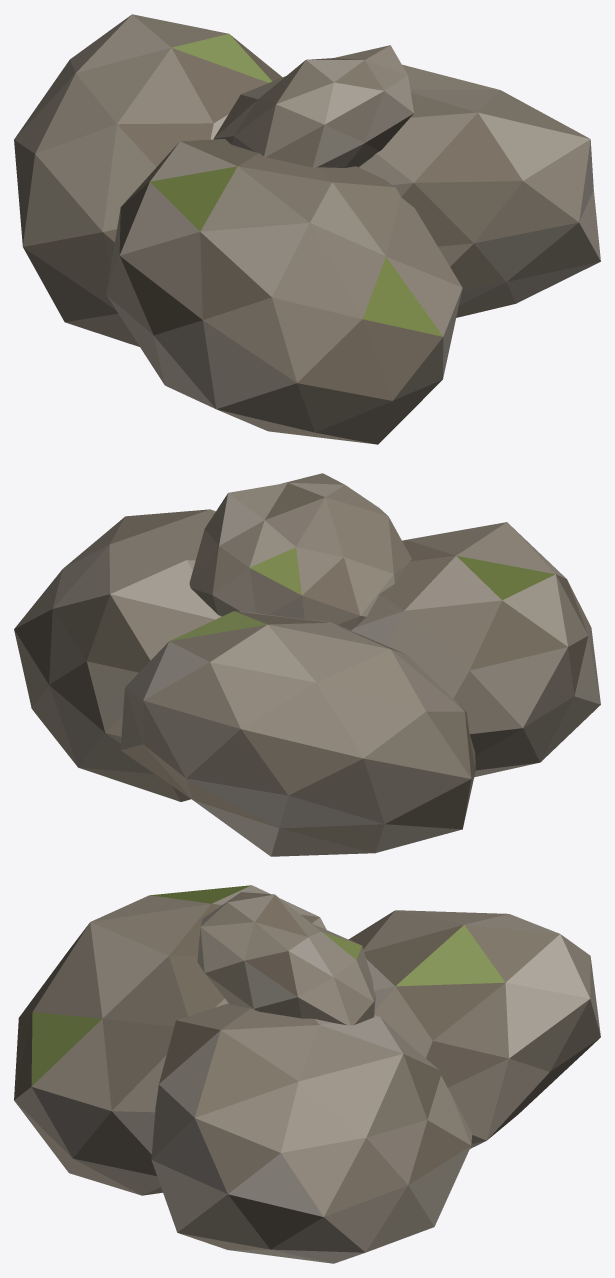
File: CollapsedRocks_c.fbx
The picture shows the model from 3 angles, top to bottom: view 1: azimuth 30°, elevation 25°; view 2: azimuth 150°, elevation 25°; view 3: azimuth 270°, elevation 25°; orthographic projection.
Parts seen in each view (by area): view 1: CollapsedRocks_c; view 2: CollapsedRocks_c; view 3: CollapsedRocks_c.
Boxes of the visible parts, left/top/right/bottom form: CollapsedRocks_c: left=14, top=14, right=600, bottom=444; CollapsedRocks_c: left=14, top=473, right=600, bottom=856; CollapsedRocks_c: left=14, top=885, right=600, bottom=1263.
Size of what is drawn, in the model's own units: 95.91 by 57.29 by 97.95.
